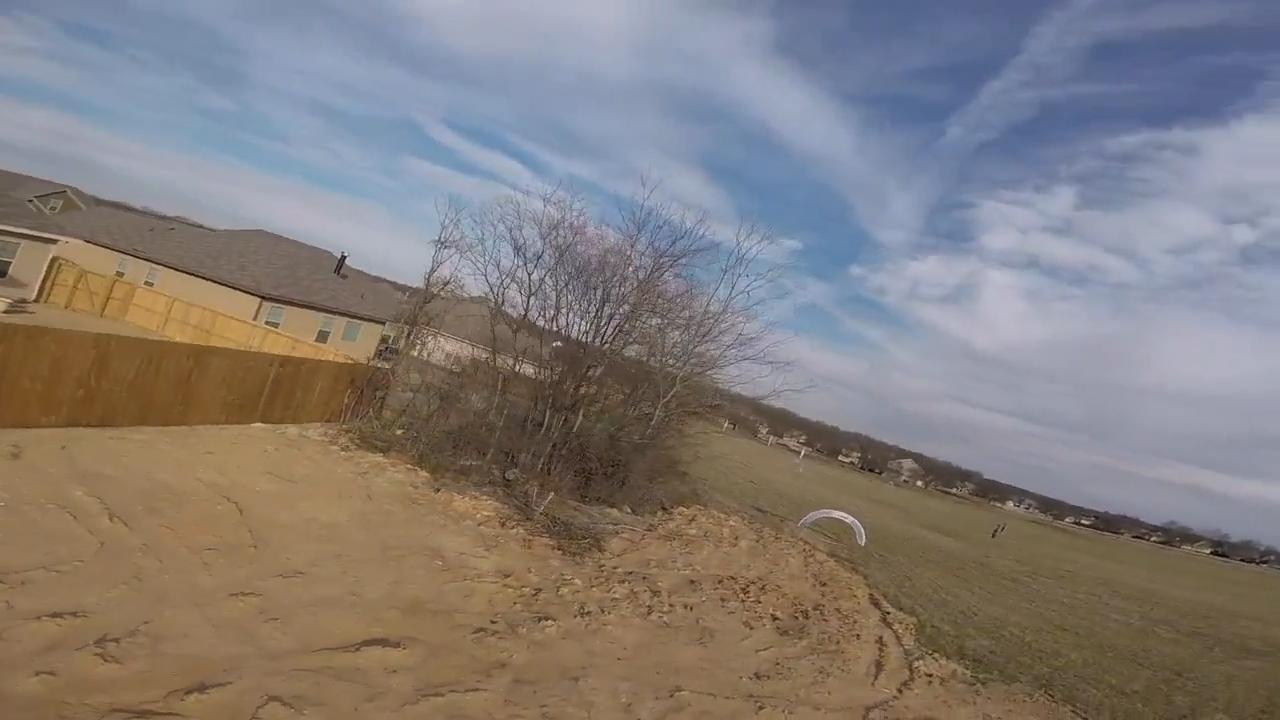gate: (797, 508, 869, 554)
